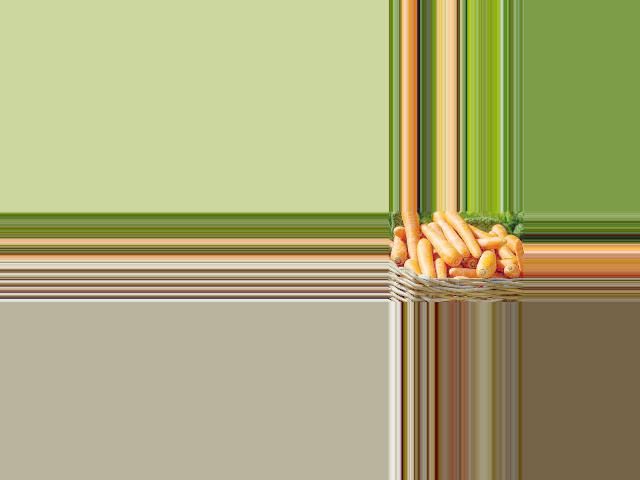carrot: (504, 262, 518, 279)
